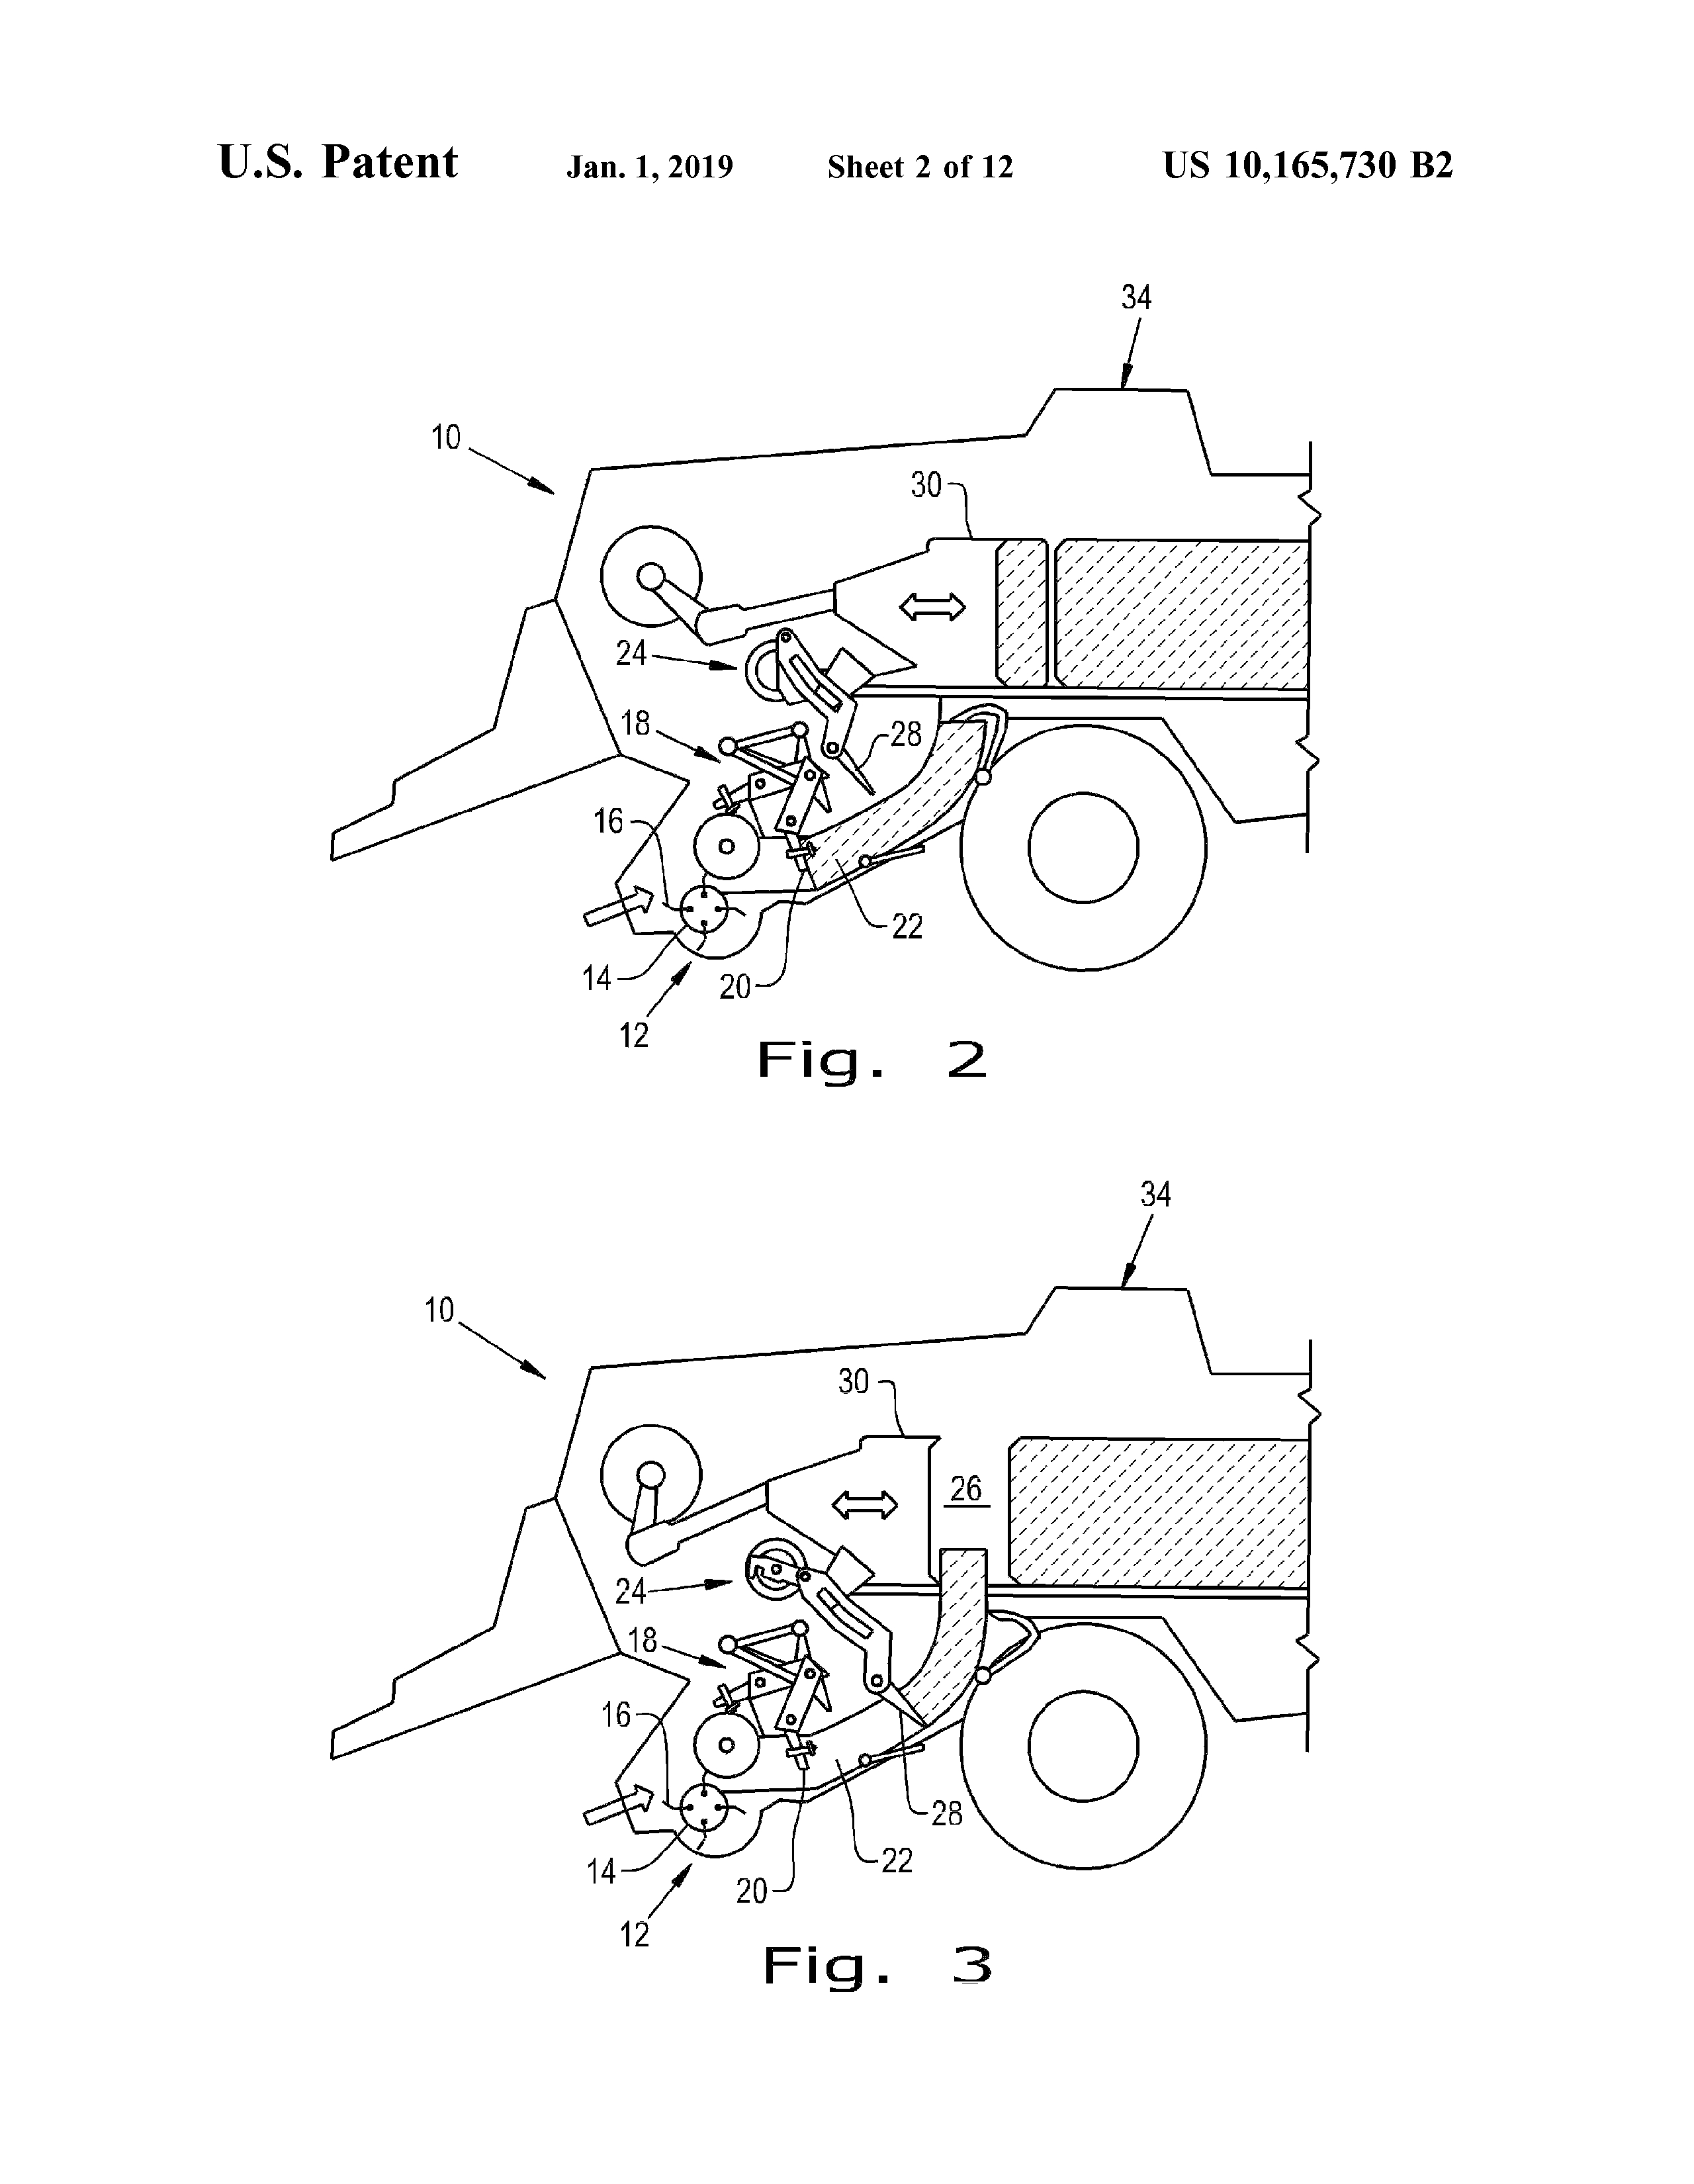patent image: (273, 259, 1417, 1125), (302, 1165, 1432, 2026)
